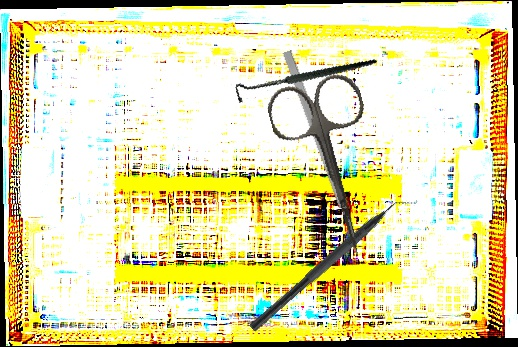Chopper: (248, 185, 420, 343)
Hook Surgical: (231, 24, 378, 137), (282, 49, 361, 245)
Iris Scissors: (263, 68, 401, 269)
